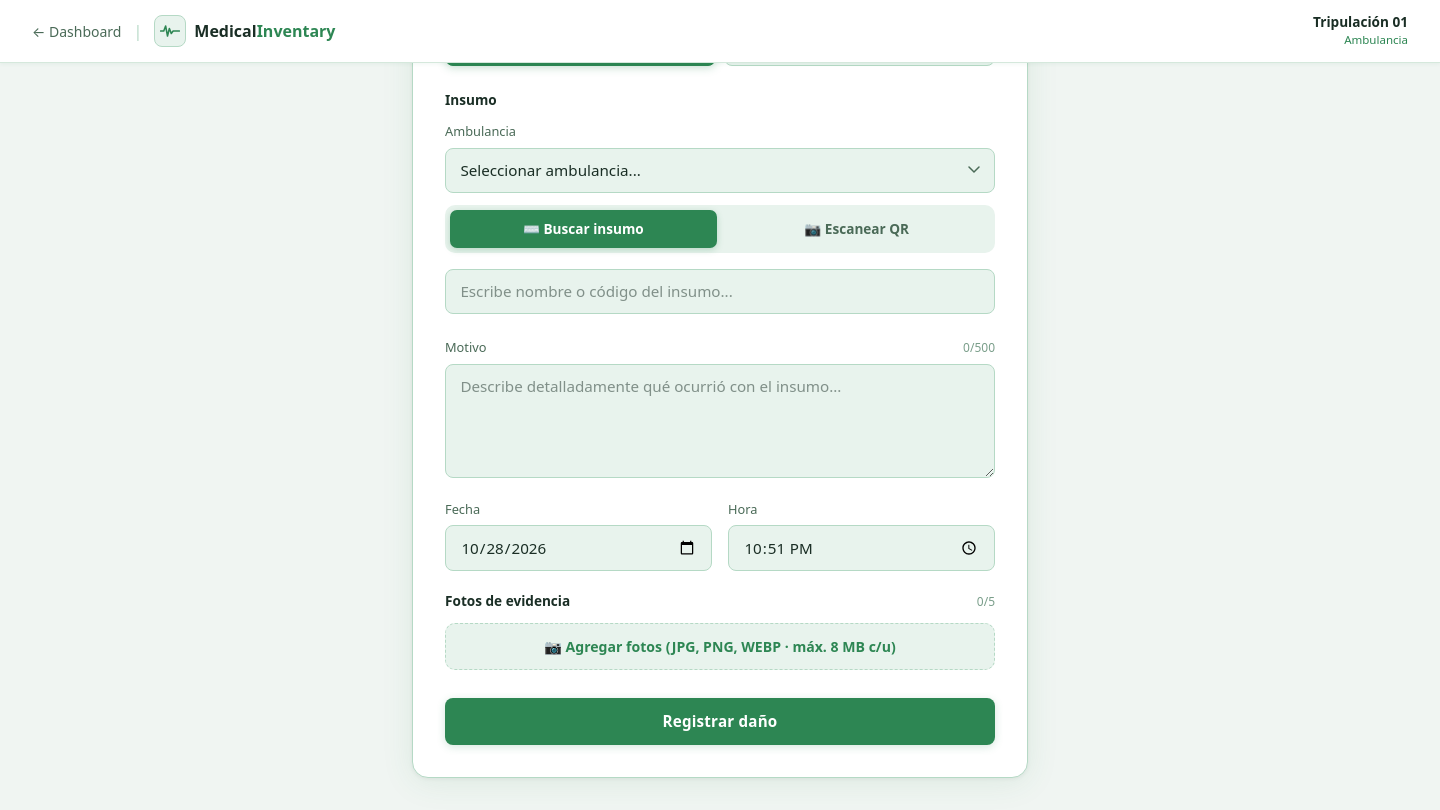
Scenario: dano/page.js · formulario › sin insumo → error sin enviar
The image size is (1440, 810).
(page scrolled)
What coordinates should you click on to do the following:
click the button "Registrar daño"
I would click on:
 (720, 722)
Its box is [445, 698, 995, 745].
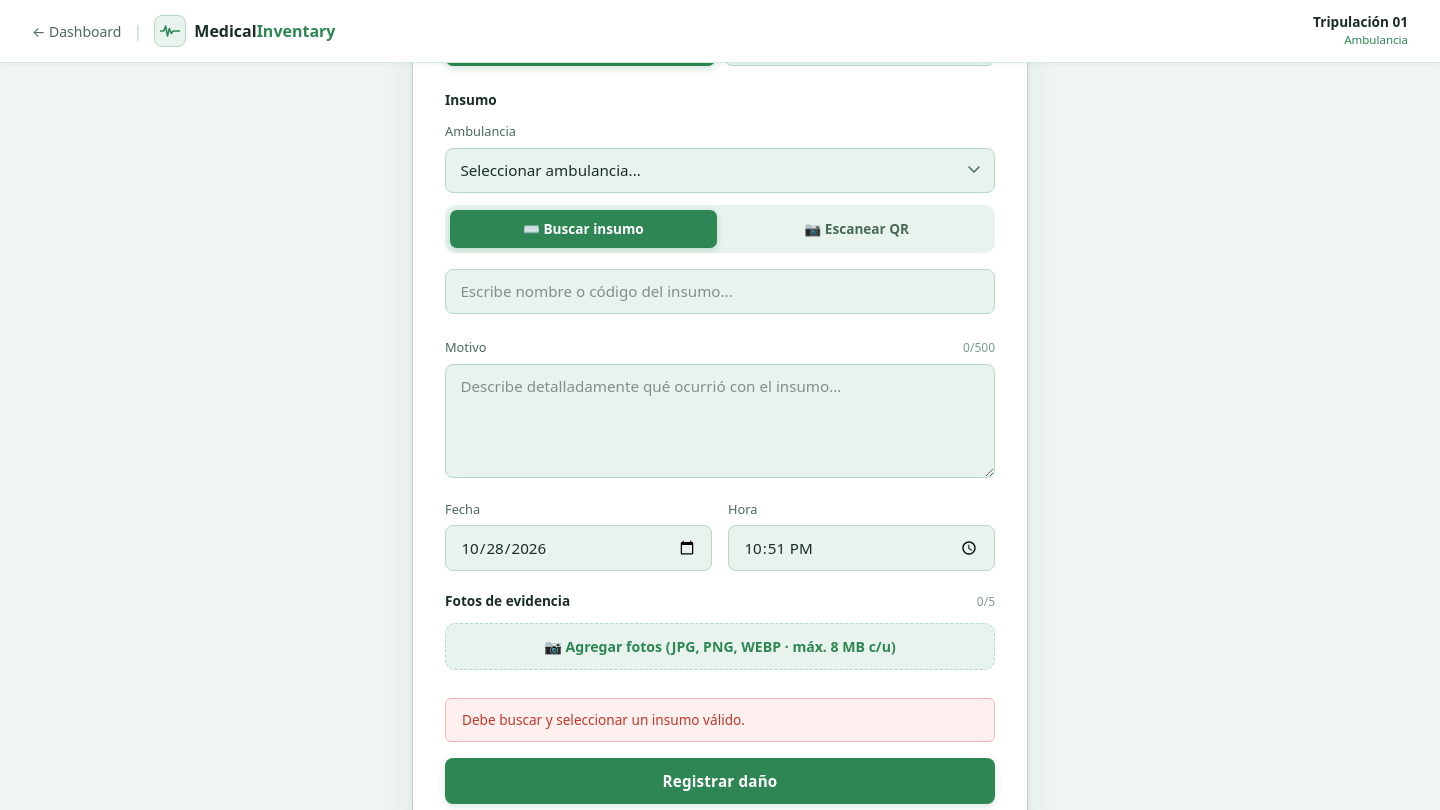
Expected: the text "Debe buscar y seleccionar un insumo válido." is shown, [445, 698, 995, 742]
